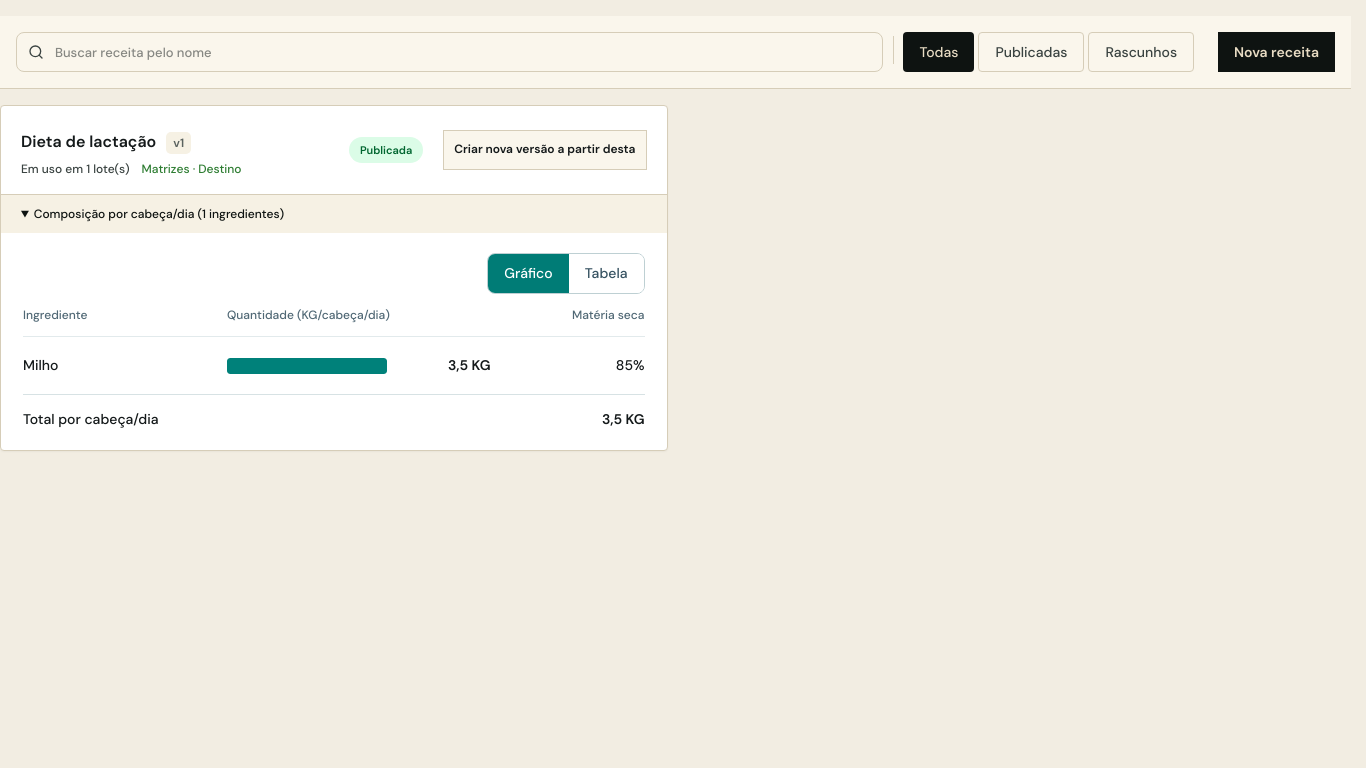
Test: gestão compartilhada de receitas › mostra o uso vigente da versão por lote e sítio, e conserva filtros ao sair do formulário
The width and height of the screenshot is (1366, 768).
Type "lactação" into the search field labelled "Buscar receita".
click(450, 52); type("lactação")  # box [16,32,883,72]
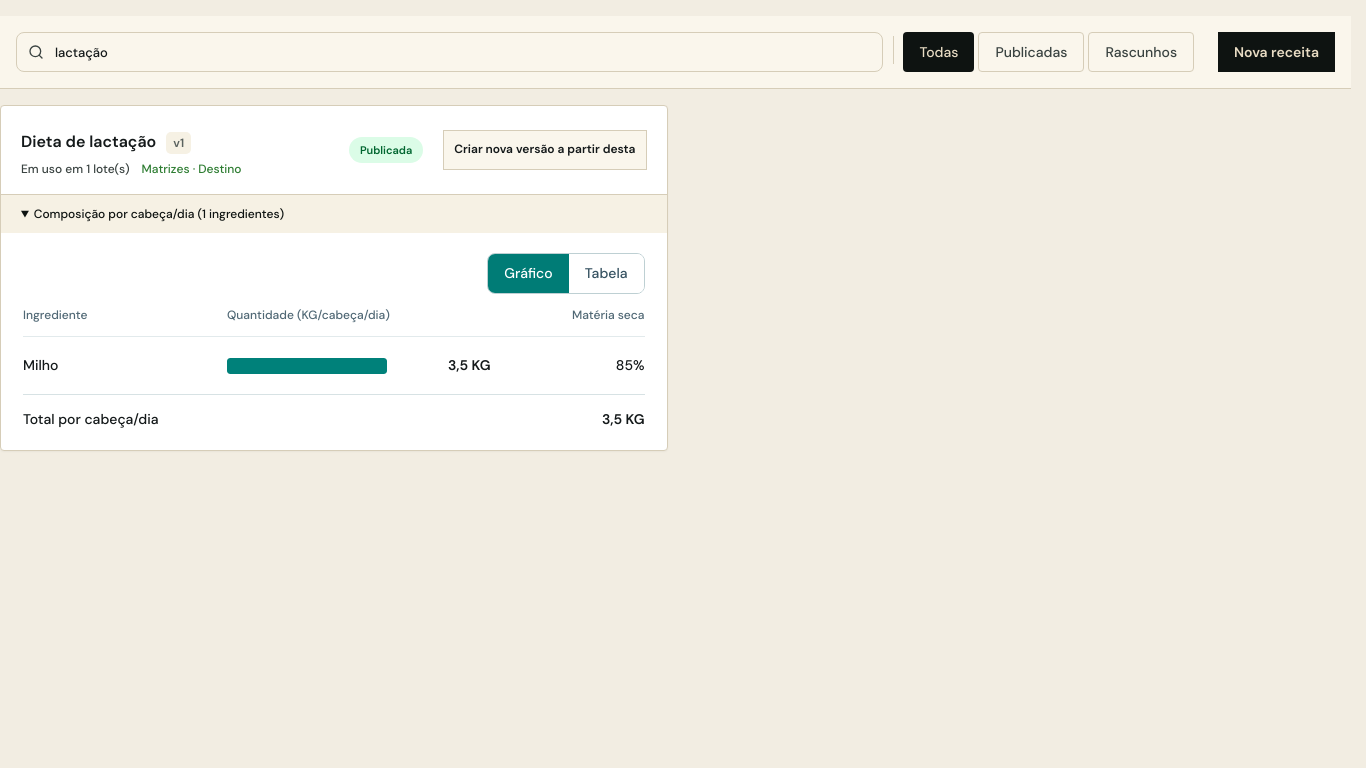
Click the button "Criar nova versão a partir desta".
click(545, 150)  # box [443,130,646,170]
(page scrolled)
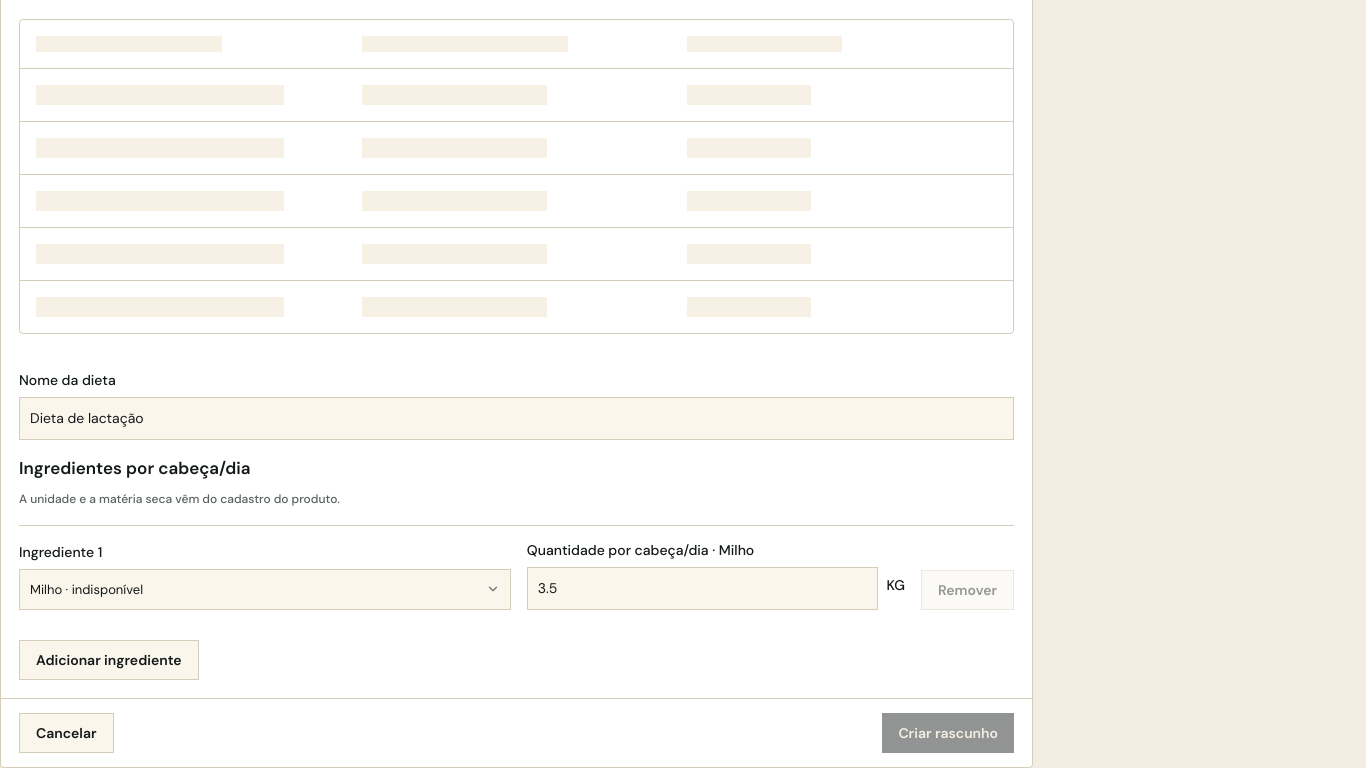
Click the button "Cancelar".
click(66, 733)  # box [19,713,114,753]
(page scrolled)
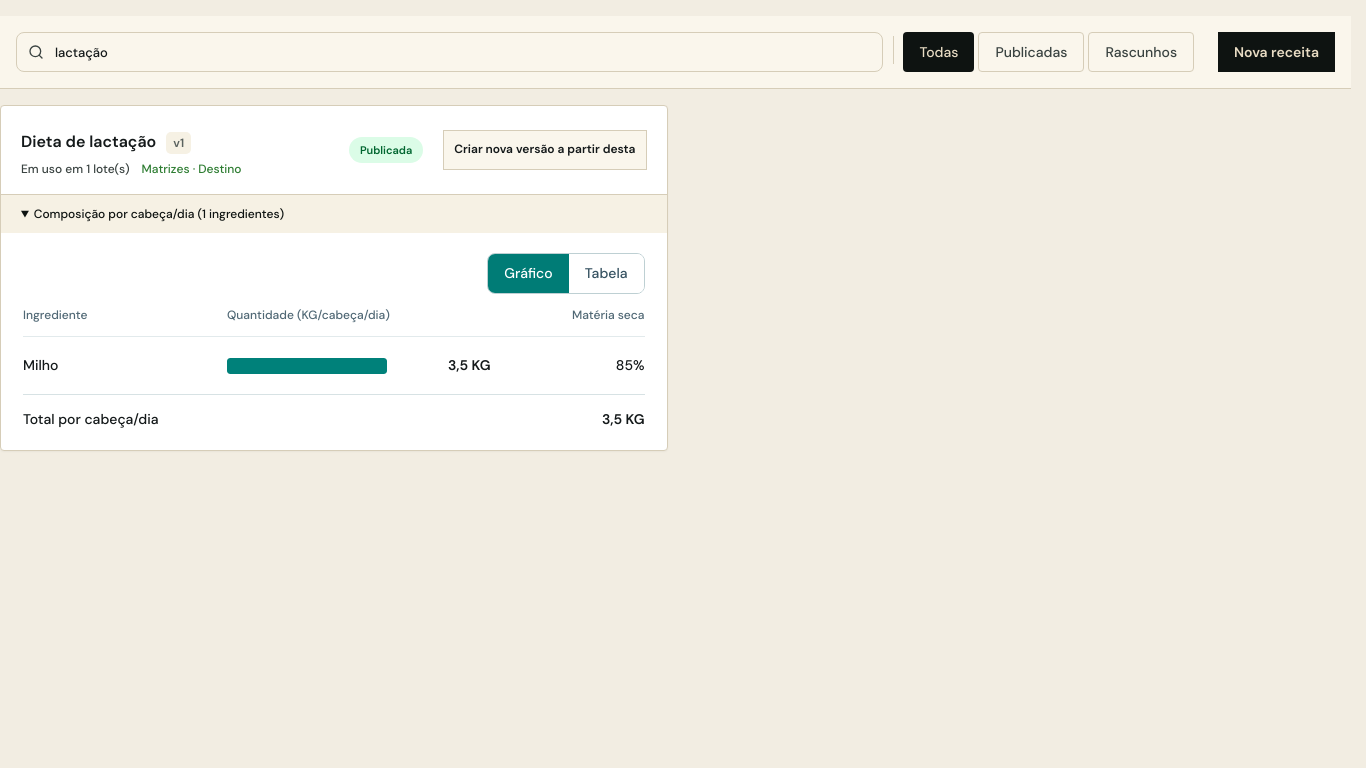
Result: the search field named "Buscar receita" holds "lactação" at [16,32,883,72]
